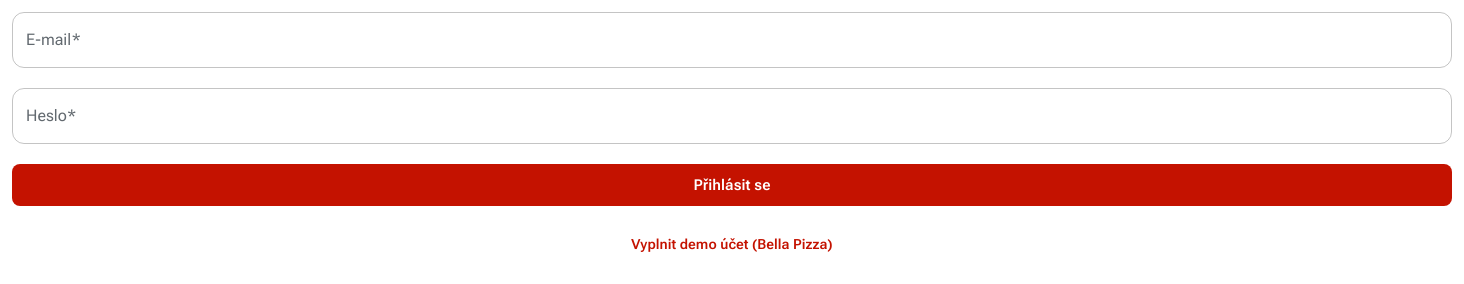
LoginForm › fills the demo account in mock mode
This screenshot has width=1464, height=284.
Click the button "Vyplnit demo účet (Bella Pizza)": (732, 245) x1=12 y1=226 x2=1452 y2=263
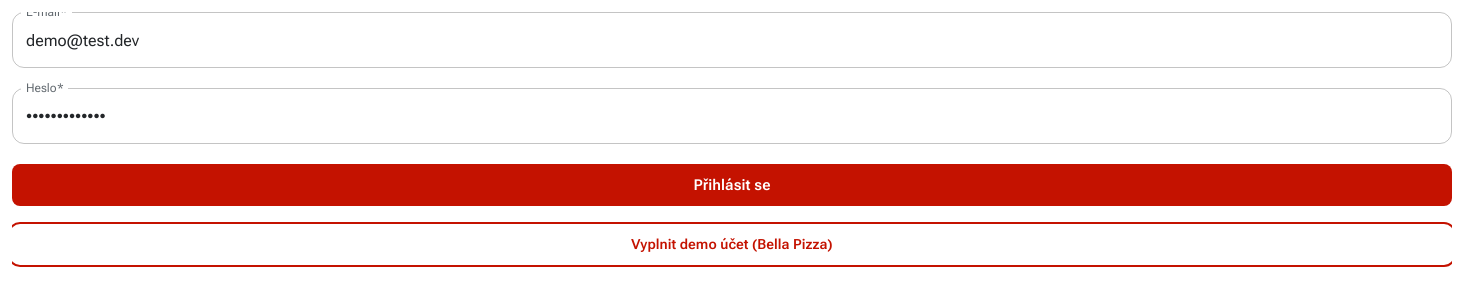
Expected: the field labelled "E-mail *" holds "demo@test.dev", x1=12 y1=12 x2=1452 y2=68
